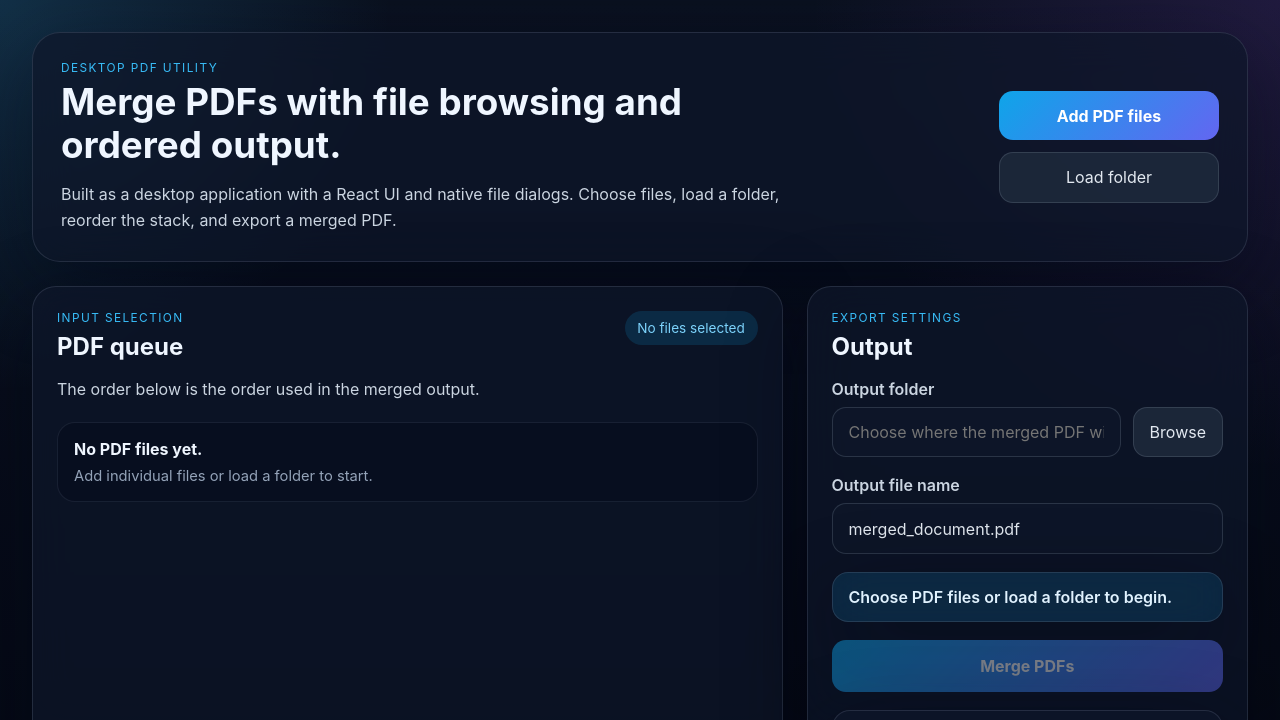
Test case: App › adds selected files and fills the output folder automatically
What coordinates should you click on to do the following:
click the button "Add PDF files"
I would click on:
 (1109, 116)
Its box is [999,91,1219,140].
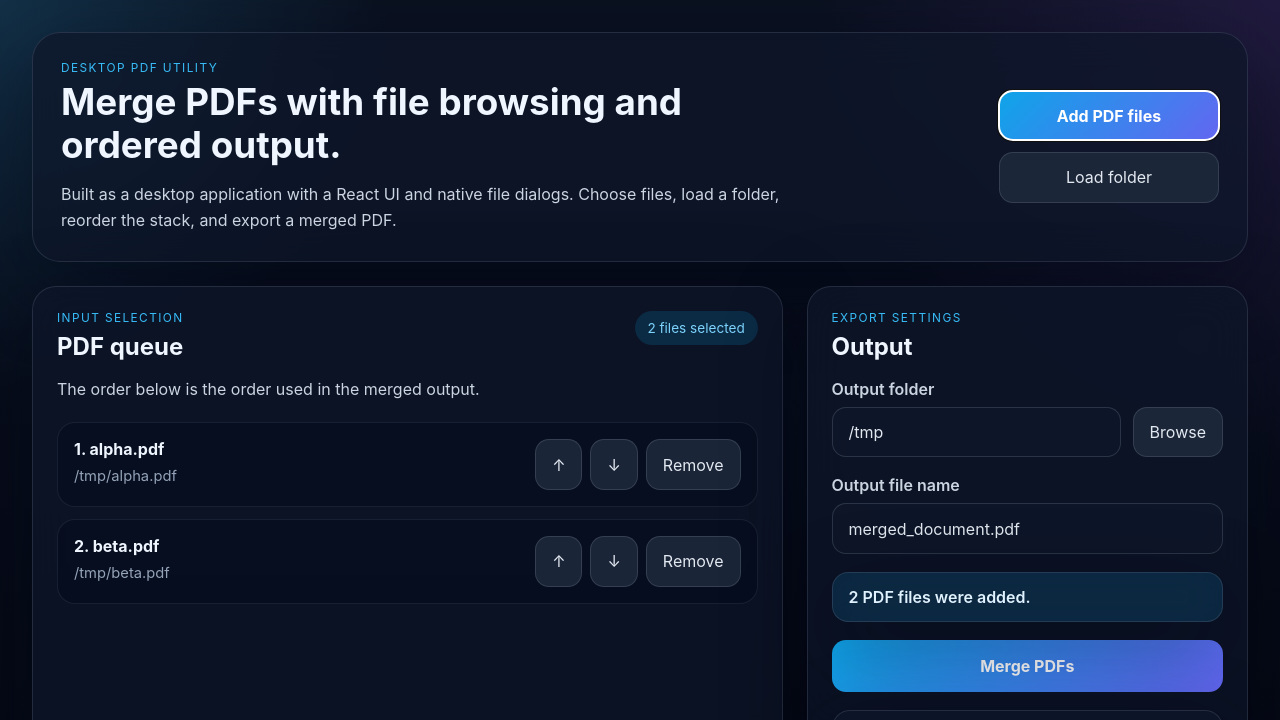
Now the text "1. alpha.pdf" is shown, box [74,439,177,459]
Now the text "2. beta.pdf" is shown, box [74,536,170,556]
Now the field labelled "Output folder Browse" holds "/tmp", box [832,407,1121,457]
